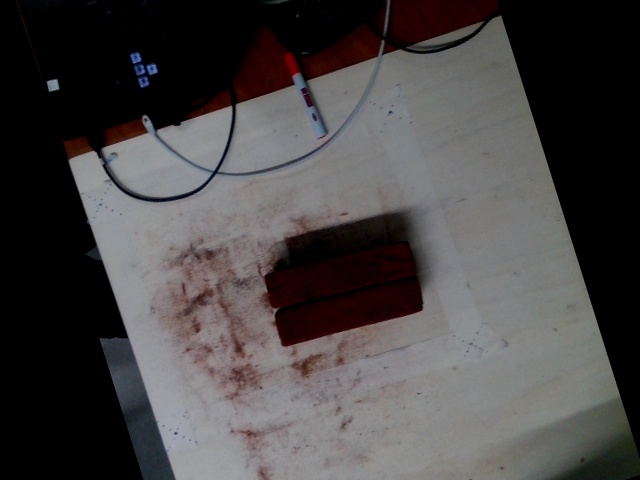brick-side: (266, 239, 413, 310), (274, 277, 422, 346)
